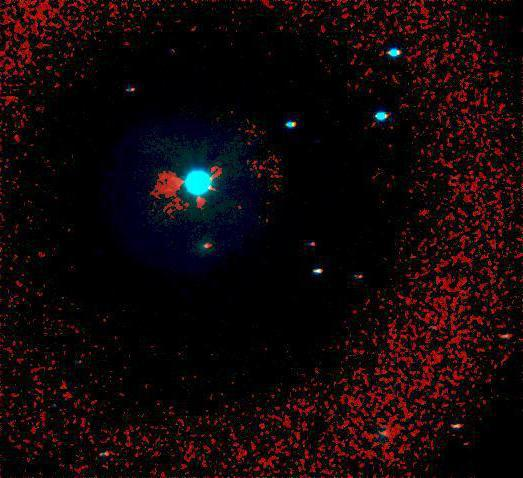star: (398, 243, 428, 273)
